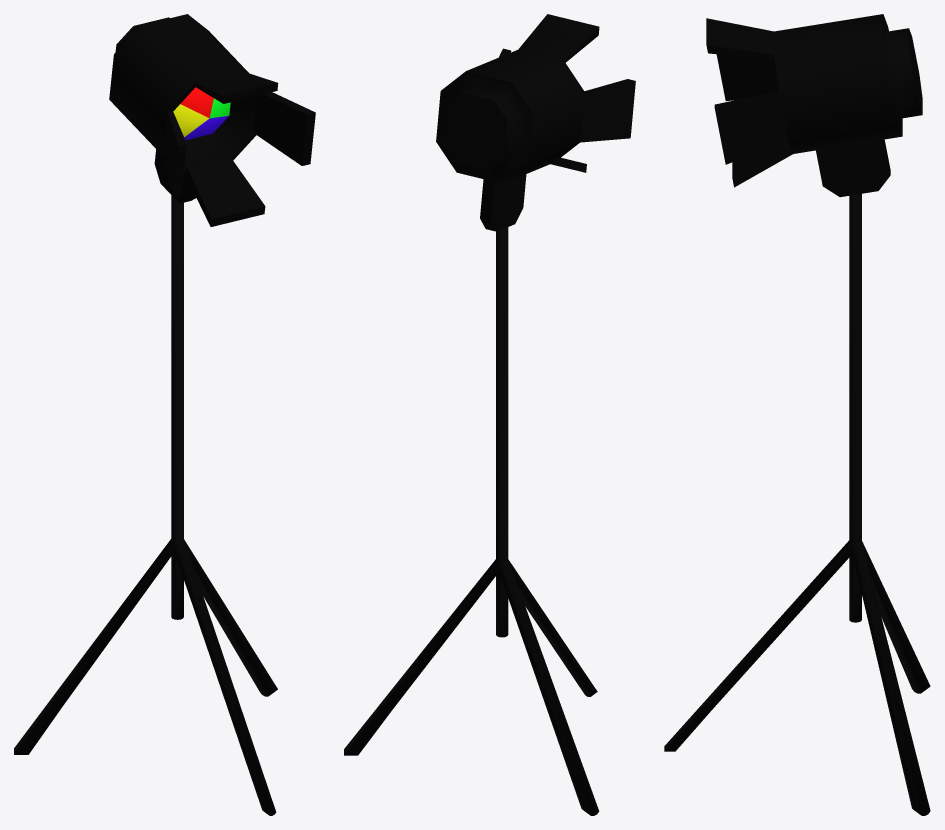
3 views of the same model, side by side, from view 1: azimuth 30°, elevation 25°; view 2: azimuth 150°, elevation 25°; view 3: azimuth 270°, elevation 25° (orthographic). The views are drawn at different scales.
Visible parts, largest first — view 1: LightingStandColored; view 2: LightingStandColored; view 3: LightingStandColored.
Boxes of the visible parts, <box> form: LightingStandColored: <box>14,14,315,815</box>; LightingStandColored: <box>344,14,635,815</box>; LightingStandColored: <box>664,14,930,815</box>.
Size of what is drawn, in the model's own units: 1.31 by 3.41 by 1.13.
2 materials, 2 textured.
